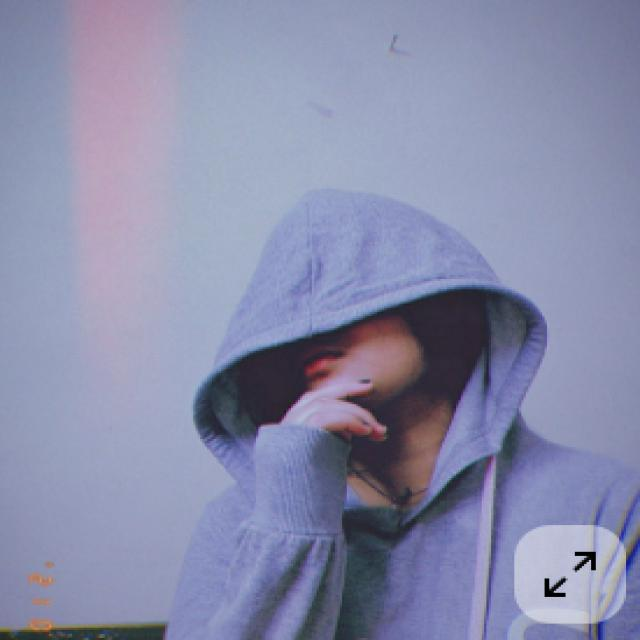4_capucha: (193, 188, 551, 523)
